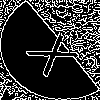X: (25, 25, 90, 78)
